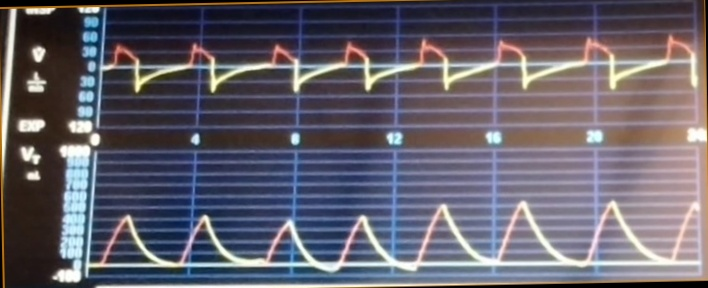Normal Flow: (104, 25, 698, 110)
Normal Volume: (95, 190, 699, 275)
